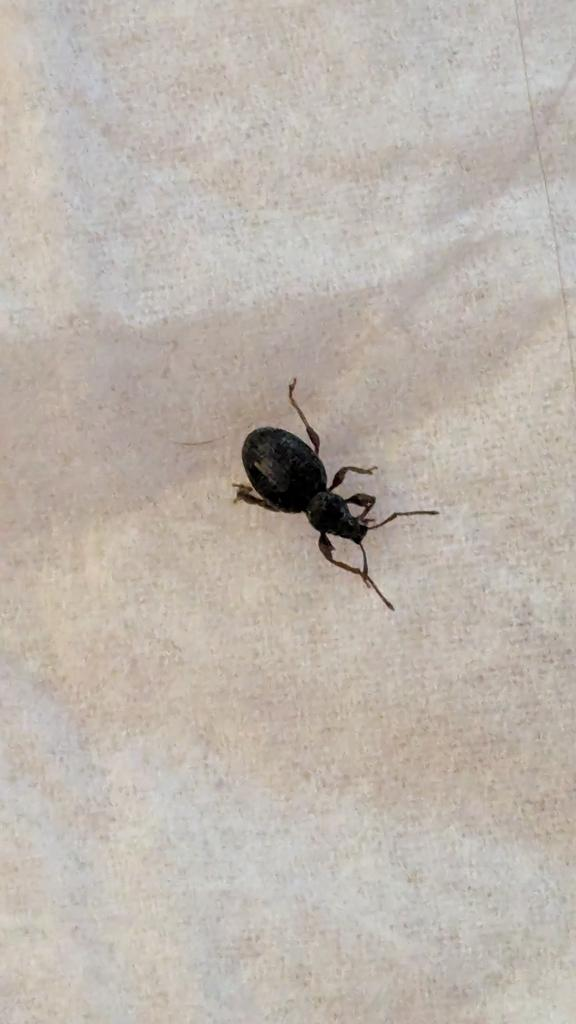weevils: (170, 347, 463, 641)
